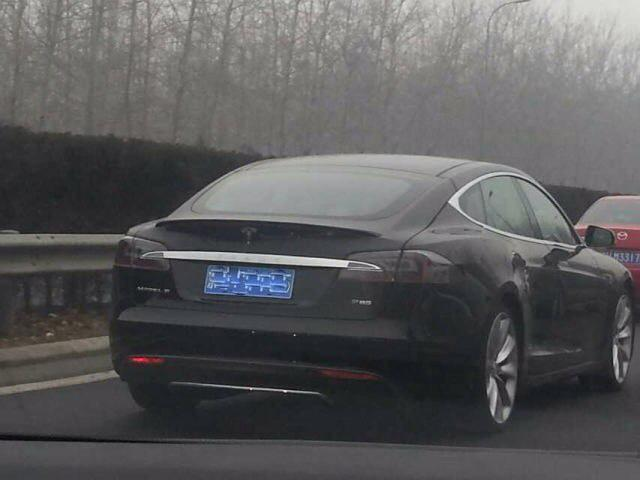car: (106, 152, 634, 433), (562, 196, 640, 327)
